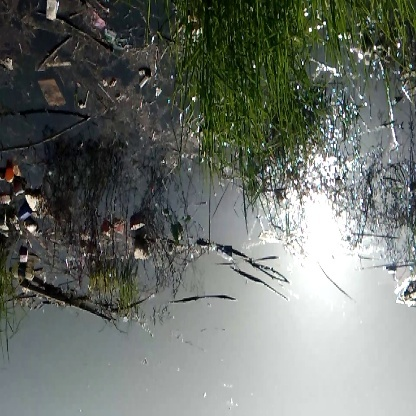branch: (21, 278, 118, 327)
